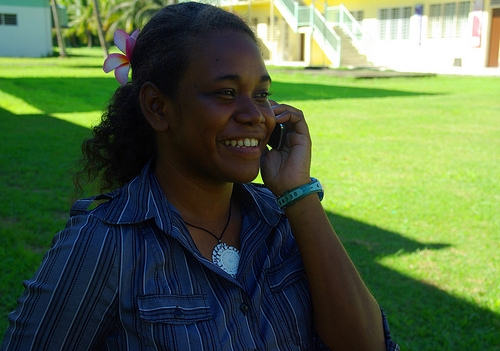phone: (264, 97, 313, 194)
